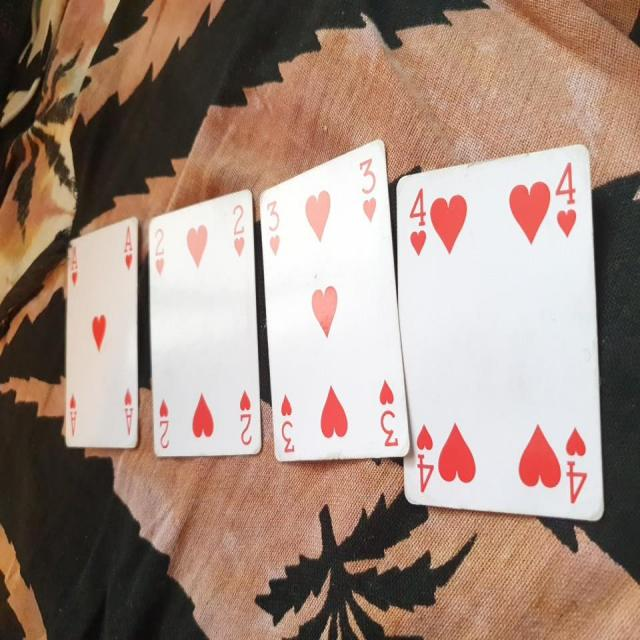2 Hearts: (144, 183, 268, 469)
3 Hearts: (260, 125, 413, 474)
4 Hearts: (396, 136, 616, 527)
A Hearts: (57, 212, 144, 458)
